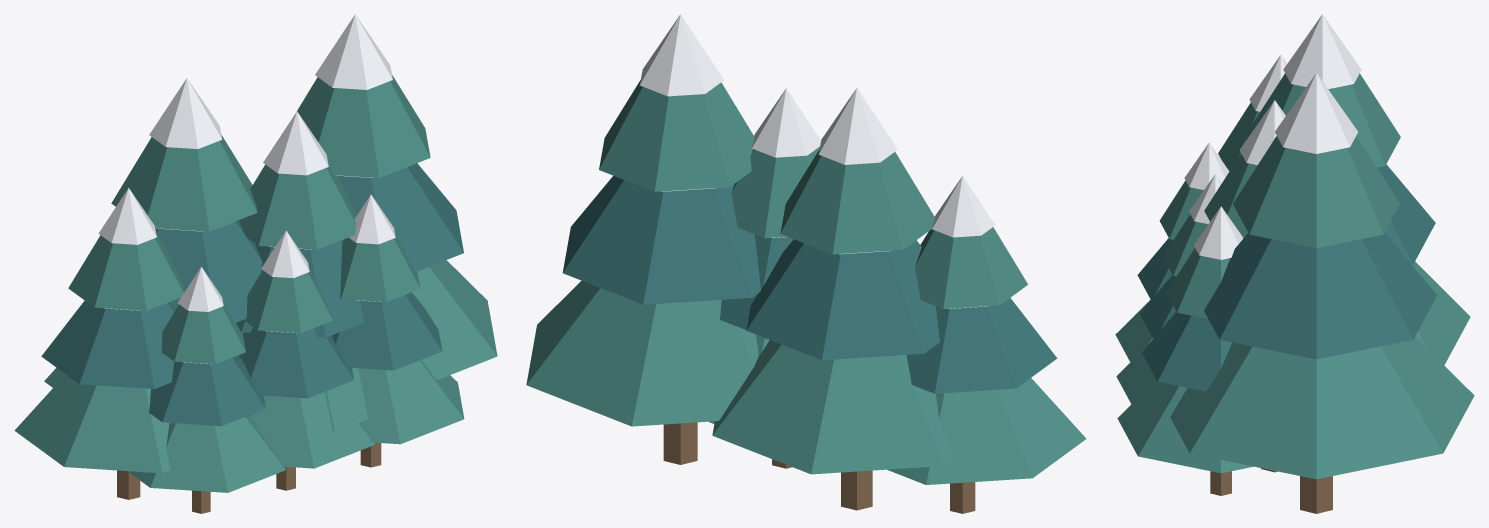
File: forest_edge.glb
3 renders of one model, left to right at view 1: azimuth 30°, elevation 25°; view 2: azimuth 150°, elevation 25°; view 3: azimuth 270°, elevation 25°, orthographic. The views are drawn at different scales.
Visible parts, largest first — view 1: e0_pine0, e3_pine2, e1_pine2, e0_pine1, e5_pine0, e2_pine2, e3_pine1, e6_pine0, e0_pine2, e3_pine0, e4_pine1, e5_pine1 (+16 smaller); view 2: e3_pine0, e1_pine0, e3_pine1, e1_pine1, e3_pine2, e0_pine0, e1_pine2, e0_pine1, e0_pine2, e2_pine2, e3_snow2, e1_snow2 (+6 smaller); view 3: e3_pine0, e3_pine1, e3_pine2, e6_pine1, e6_pine0, e1_pine2, e3_snow2, e1_snow2, e6_pine2, e1_pine0, e1_pine1, e2_pine2 (+14 smaller).
Part boxes in pixels (x1,y1,x2,y2): e0_pine0: [14, 374, 170, 473]; e3_pine2: [297, 75, 430, 177]; e1_pine2: [111, 135, 257, 231]; e0_pine1: [41, 300, 174, 388]; e5_pine0: [127, 415, 285, 492]; e2_pine2: [239, 164, 356, 249]; e3_pine1: [336, 163, 463, 271]; e6_pine0: [358, 360, 464, 444]; e0_pine2: [68, 234, 184, 310]; e3_pine0: [412, 260, 497, 379]; e4_pine1: [238, 327, 353, 398]; e5_pine1: [149, 355, 265, 426]; e3_pine0: [526, 280, 758, 426]; e1_pine0: [712, 340, 954, 474]; e3_pine1: [562, 176, 760, 304]; e1_pine1: [746, 239, 939, 360]; e3_pine2: [599, 80, 754, 191]; e0_pine0: [887, 378, 1086, 484]; e1_pine2: [780, 149, 935, 254]; e0_pine1: [906, 298, 1057, 393]; e0_pine2: [915, 227, 1027, 308]; e2_pine2: [731, 146, 819, 238]; e3_snow2: [640, 14, 723, 96]; e1_snow2: [818, 88, 897, 164]; e3_pine0: [1170, 336, 1474, 479]; e3_pine1: [1204, 233, 1437, 359]; e3_pine2: [1233, 136, 1399, 248]; e6_pine1: [1142, 311, 1231, 391]; e6_pine0: [1117, 380, 1253, 473]; e1_pine2: [1244, 73, 1400, 167]; e3_snow2: [1275, 73, 1357, 153]; e1_snow2: [1283, 14, 1361, 88]; e6_pine2: [1166, 248, 1230, 318]; e1_pine0: [1412, 261, 1470, 365]; e1_pine1: [1377, 164, 1435, 264]; e2_pine2: [1204, 153, 1257, 238].
Bounding box in the file's own units: 4.78 × 4.01 × 3.01.
